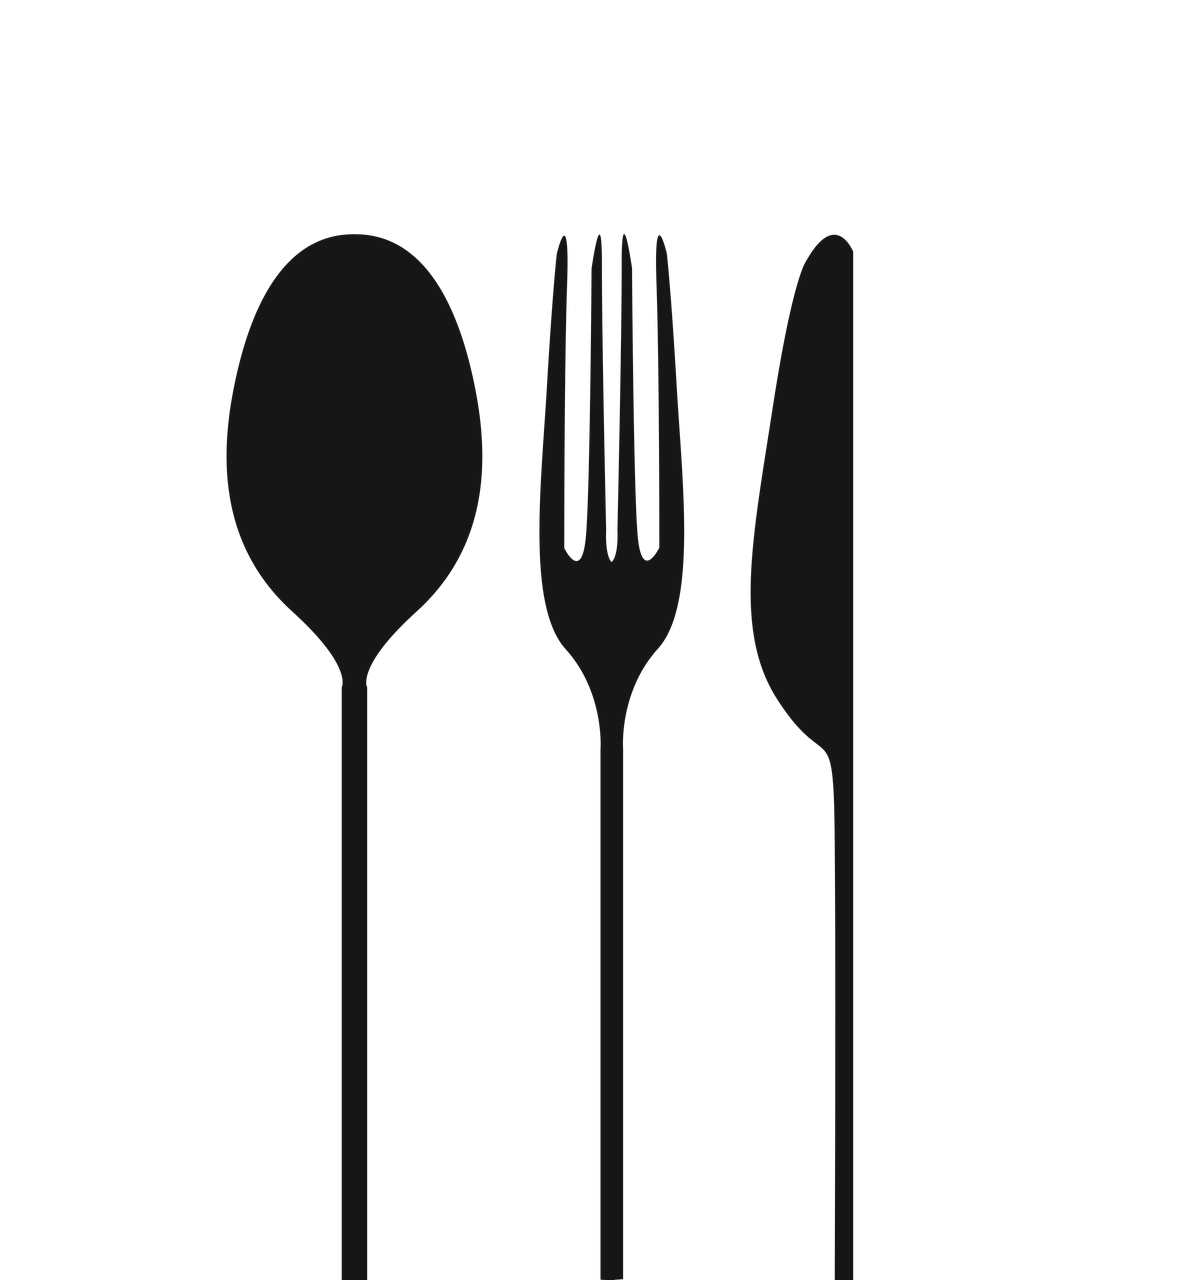knife: (740, 232, 864, 1280)
